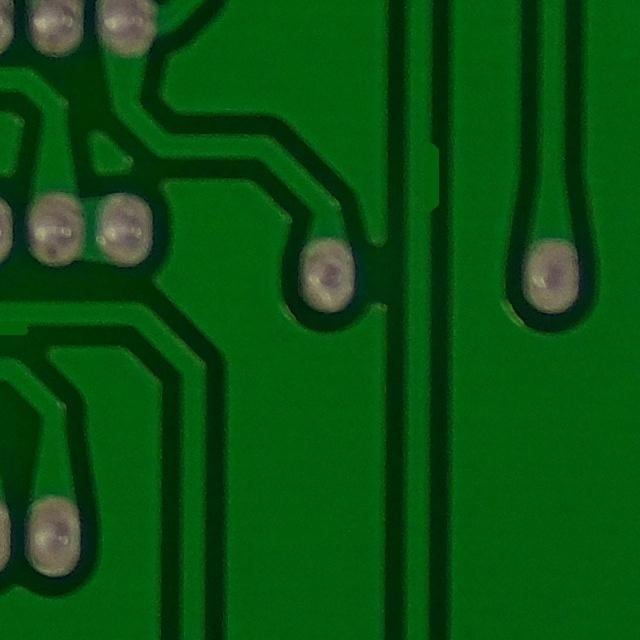spur: (398, 120, 451, 227)
